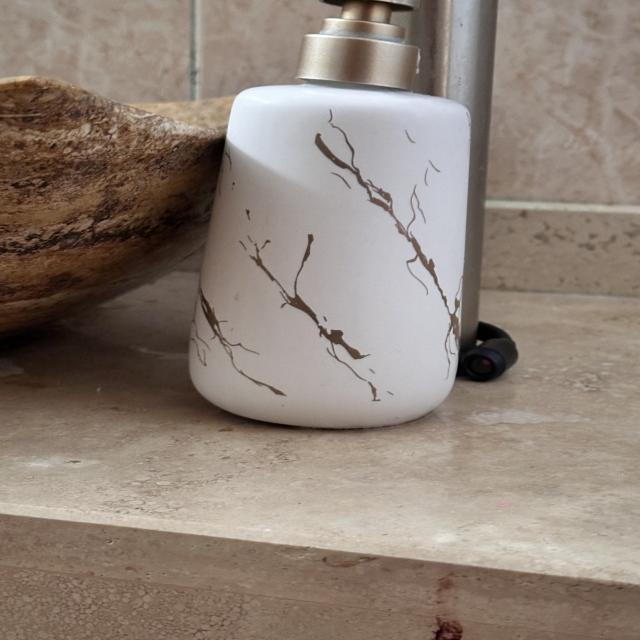hidden camera: (460, 351, 499, 384)
